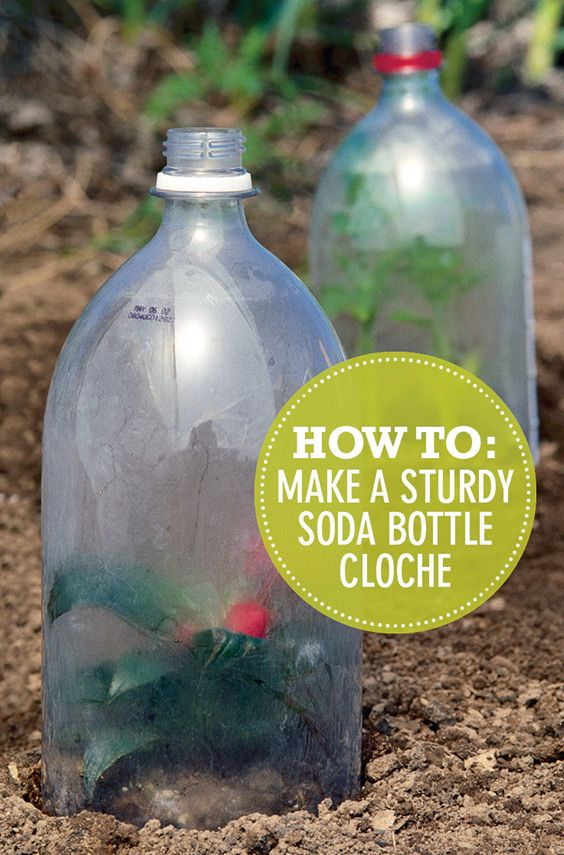plastic_bottle: (36, 119, 382, 823), (306, 16, 543, 347)
